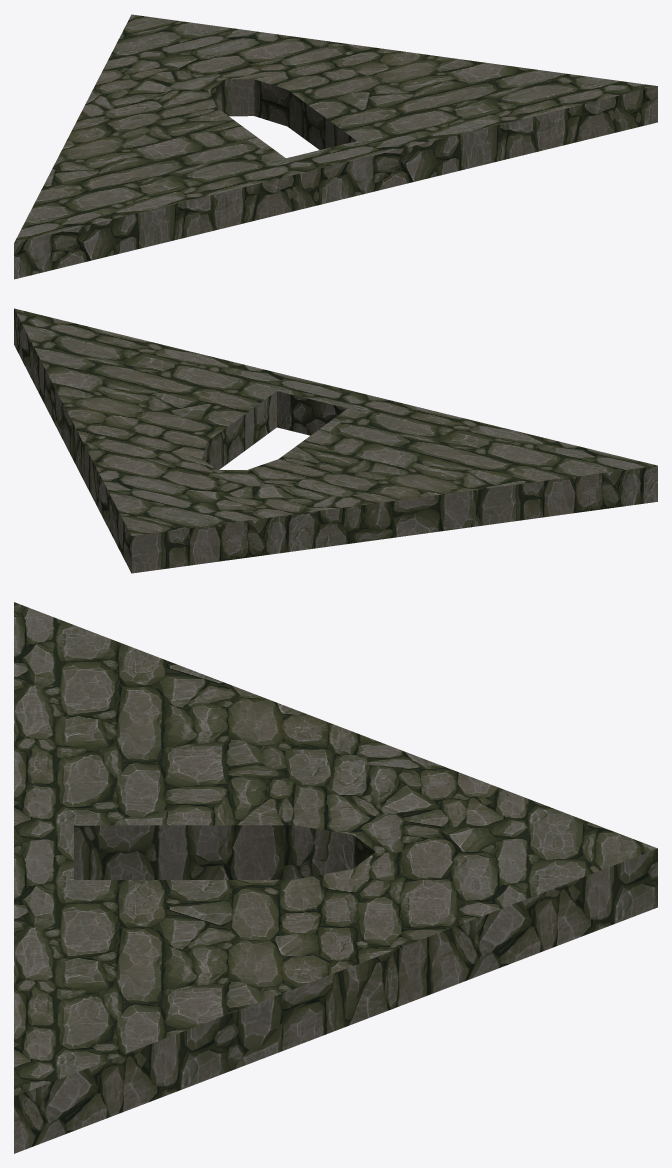
File: TI_L_Wall_05.fbx
3 renders of one model, top to bottom at view 1: azimuth 30°, elevation 25°; view 2: azimuth 150°, elevation 25°; view 3: azimuth 270°, elevation 25°, orthographic. The views are drawn at different scales.
Visible parts, largest first — view 1: TI_L_Wall_05; view 2: TI_L_Wall_05; view 3: TI_L_Wall_05.
Boxes of the visible parts, box(x1,y1,x2,y2) form: TI_L_Wall_05: box(14, 14, 657, 279); TI_L_Wall_05: box(14, 308, 657, 573); TI_L_Wall_05: box(14, 602, 657, 1153).
Size of the model in its own units: 6.49 by 0.3607 by 3.57.
